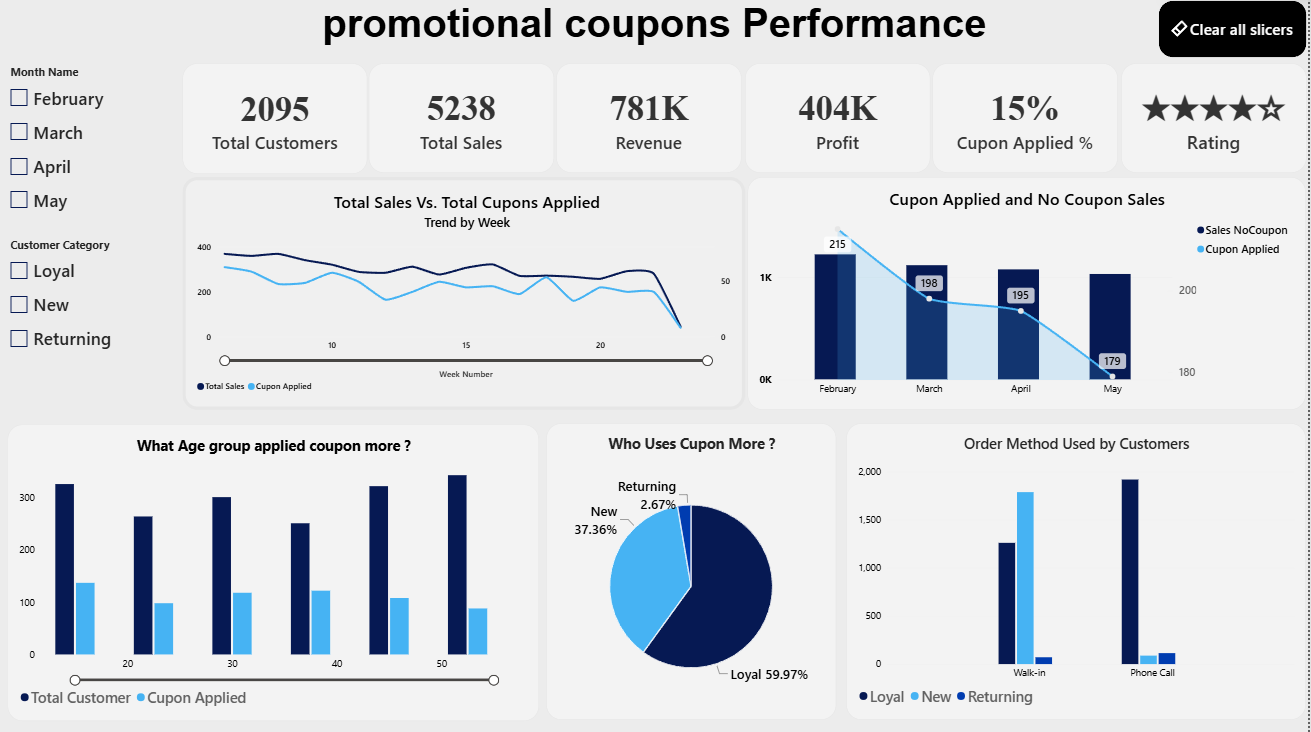

What the dashboard file says about the page in this screenshot:
{"tool":"powerbi","page":{"name":"Promotional Coupons Performance","canvas":[1920,1080],"ordinal":0},"visuals":[{"type":"card","fields":{"Values":["_measure.Total Customers"]},"box":[267.4,97.2,271.5,162.1],"z":0},{"type":"card","fields":{"Values":["_measure.Rating"]},"box":[1644.6,96.7,271.7,160.5],"z":1000},{"type":"card","fields":{"Values":["_measure.Total Sales"]},"box":[541.3,96.7,271.7,160.5],"z":2000},{"type":"card","fields":{"Values":["_measure.Revenue"]},"box":[817.2,96.7,271.7,160.5],"z":3000},{"type":"card","fields":{"Values":["_measure.Profit"]},"box":[1093,96.7,271.7,160.5],"z":4000},{"type":"card","fields":{"Values":["_measure.Cupon Applied %"]},"box":[1368.8,96.7,271.7,160.5],"z":5000},{"type":"lineChart","title":"Total Sales Vs. Total Cupons Applied","fields":{"Category":["date.Week Number"],"Y":["CountNonNull(customer_transction.phone_number)"],"Y2":["_measure.Cupon Applied"]},"box":[267.6,263.5,825.4,341.7],"z":6000},{"type":"lineClusteredColumnComboChart","title":"Cupon Applied and No Coupon Sales","fields":{"Category":["date.Month Name"],"Y":["_measure.Sales NoCoupon"],"Y2":["_measure.Cupon Applied"]},"box":[1097.1,263.5,819.2,341.7],"z":7000},{"type":"clusteredColumnChart","title":"Order Method Used by Customers","fields":{"Category":["customer_transction.order_type"],"Series":["Customers.Customer Category"],"Y":["CountNonNull(customer_transction.order_type)"]},"box":[1241.8,626,674.6,435.5],"z":8000},{"type":"pieChart","title":"Who Uses Cupon More ?","fields":{"Category":["customer_transction.CustomerCategory"],"Y":["_measure.Cupon_applied"]},"box":[802.2,626,425.4,435.5],"z":9000},{"type":"clusteredColumnChart","title":"What Age group applied coupon more ?","fields":{"Category":["customer_transction.age (bins)"],"Y":["CountNonNull(Customers.Phone Number)","_measure.Cupon_applied"]},"box":[10.1,626.6,779.9,435.5],"z":10000},{"type":"textbox","box":[0,6.1,1920.4,84.8],"z":11000},{"type":"slicer","fields":{"Values":["Customers.Customer Category"]},"box":[8.1,351.4,252.4,187.8],"z":12000},{"type":"slicer","fields":{"Values":["date.Month Name"]},"box":[8.1,98.9,252.4,226.2],"z":13000},{"type":"actionButton","box":[1699.6,6.1,216.8,83.1],"z":14000}]}

Visuals, with their boxes in screenshot pixels (x1, y1, x2, y2), scaled from the page's 1920x1080 canvas onto the 1311x732 screenshot:
card - _measure.Total Customers: {"x1": 183, "y1": 66, "x2": 368, "y2": 176}
card - _measure.Rating: {"x1": 1123, "y1": 66, "x2": 1308, "y2": 174}
card - _measure.Total Sales: {"x1": 370, "y1": 66, "x2": 555, "y2": 174}
card - _measure.Revenue: {"x1": 558, "y1": 66, "x2": 744, "y2": 174}
card - _measure.Profit: {"x1": 746, "y1": 66, "x2": 932, "y2": 174}
card - _measure.Cupon Applied %: {"x1": 935, "y1": 66, "x2": 1120, "y2": 174}
"Total Sales Vs. Total Cupons Applied" lineChart: {"x1": 183, "y1": 179, "x2": 746, "y2": 410}
"Cupon Applied and No Coupon Sales" lineClusteredColumnComboChart: {"x1": 749, "y1": 179, "x2": 1308, "y2": 410}
"Order Method Used by Customers" clusteredColumnChart: {"x1": 848, "y1": 424, "x2": 1309, "y2": 719}
"Who Uses Cupon More ?" pieChart: {"x1": 548, "y1": 424, "x2": 838, "y2": 719}
"What Age group applied coupon more ?" clusteredColumnChart: {"x1": 7, "y1": 425, "x2": 539, "y2": 720}
textbox: {"x1": 0, "y1": 4, "x2": 1310, "y2": 62}
slicer - Customers.Customer Category: {"x1": 6, "y1": 238, "x2": 178, "y2": 365}
slicer - date.Month Name: {"x1": 6, "y1": 67, "x2": 178, "y2": 220}
actionButton: {"x1": 1161, "y1": 4, "x2": 1309, "y2": 60}
